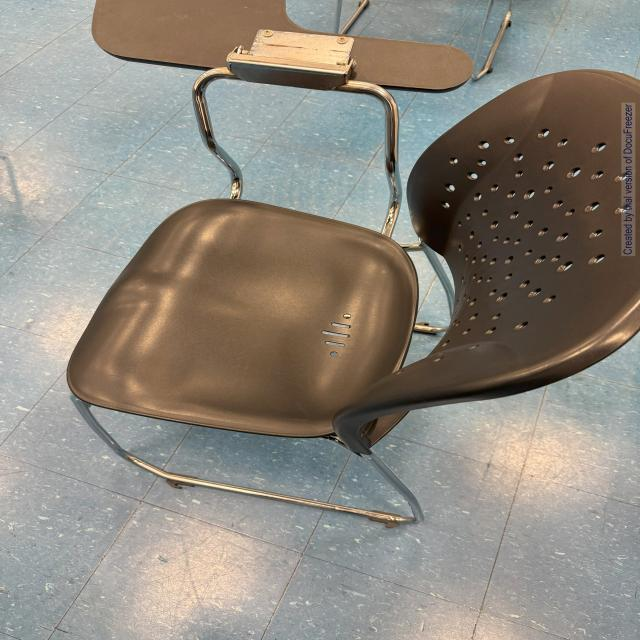chair: (49, 40, 640, 545)
